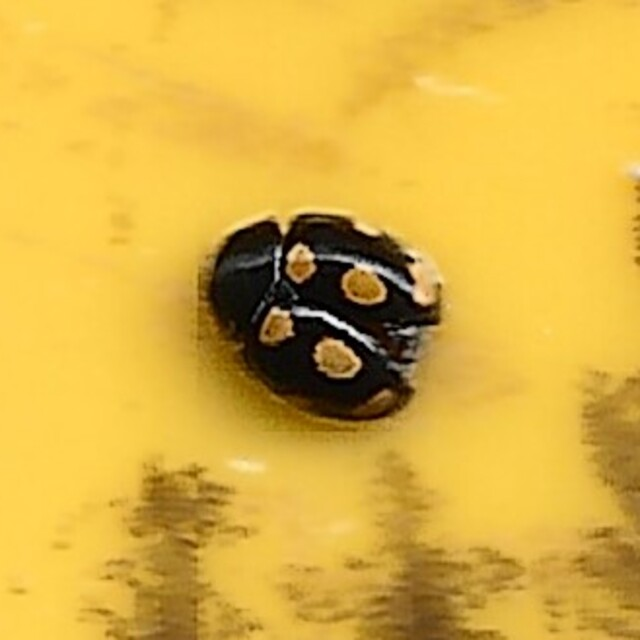Coleoptera: (195, 208, 445, 432)
